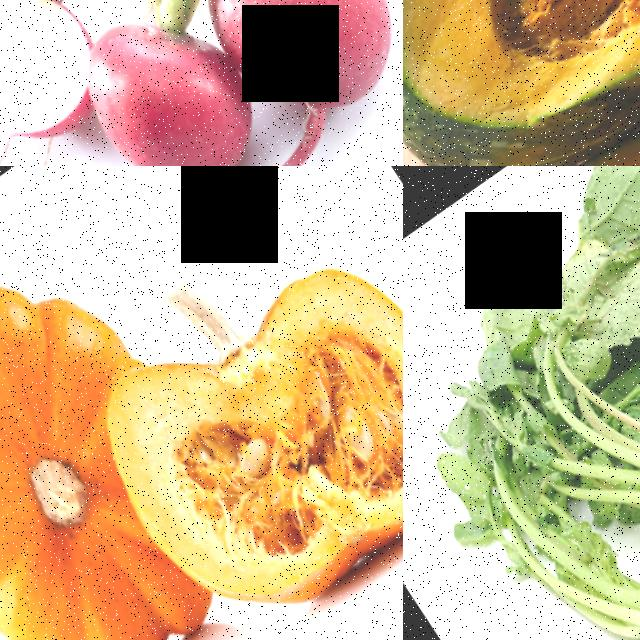pumpkin: (55, 213, 403, 640), (0, 254, 218, 640), (403, 0, 640, 166), (403, 0, 640, 166), (403, 0, 640, 166)
radishes: (534, 307, 640, 640)
spinach: (0, 0, 403, 166)
